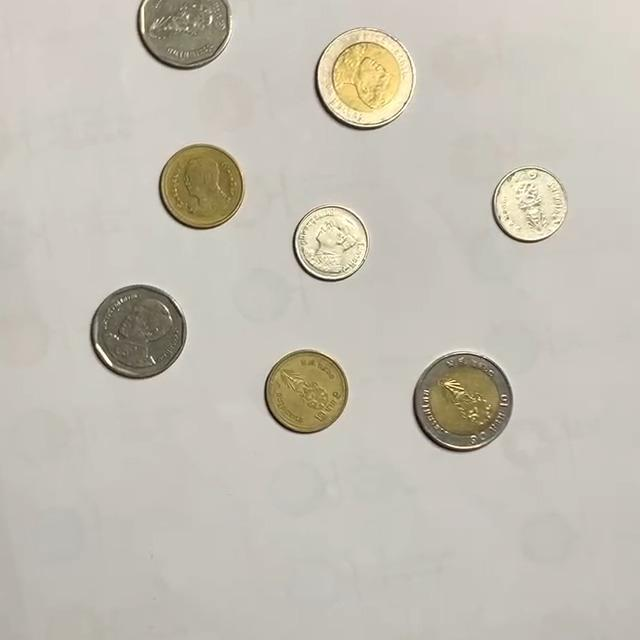1-baht: (293, 205, 371, 282), (492, 166, 570, 242)
10-baht: (316, 26, 417, 127), (413, 351, 515, 451)
2-baht: (159, 144, 244, 229), (264, 350, 349, 434)
5-baht: (90, 284, 187, 380), (136, 0, 234, 70)
